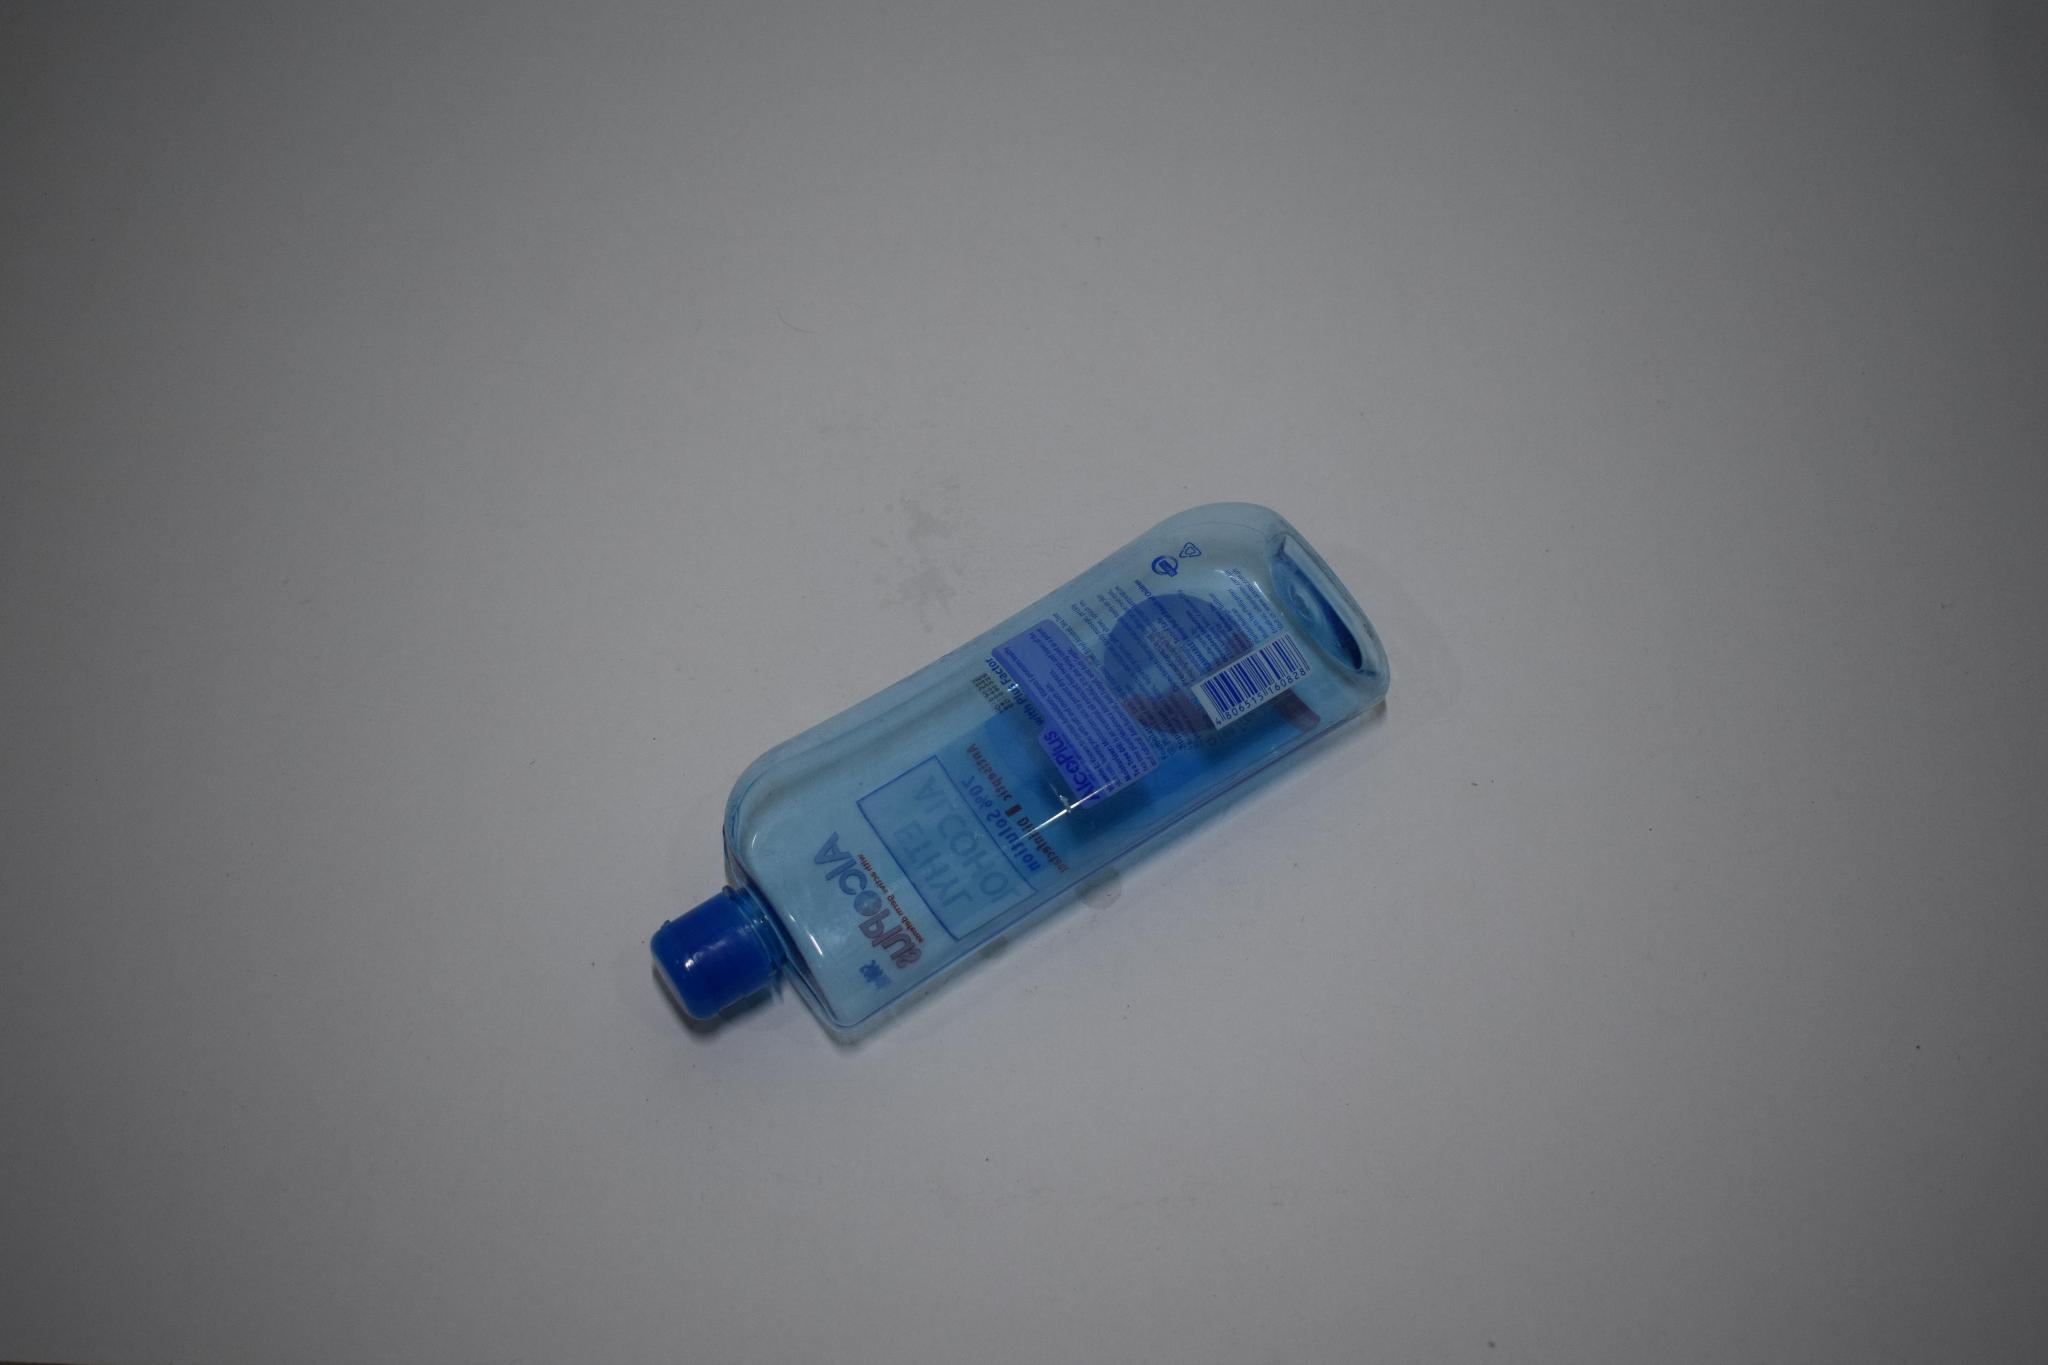bottle: (647, 503, 1436, 1059)
